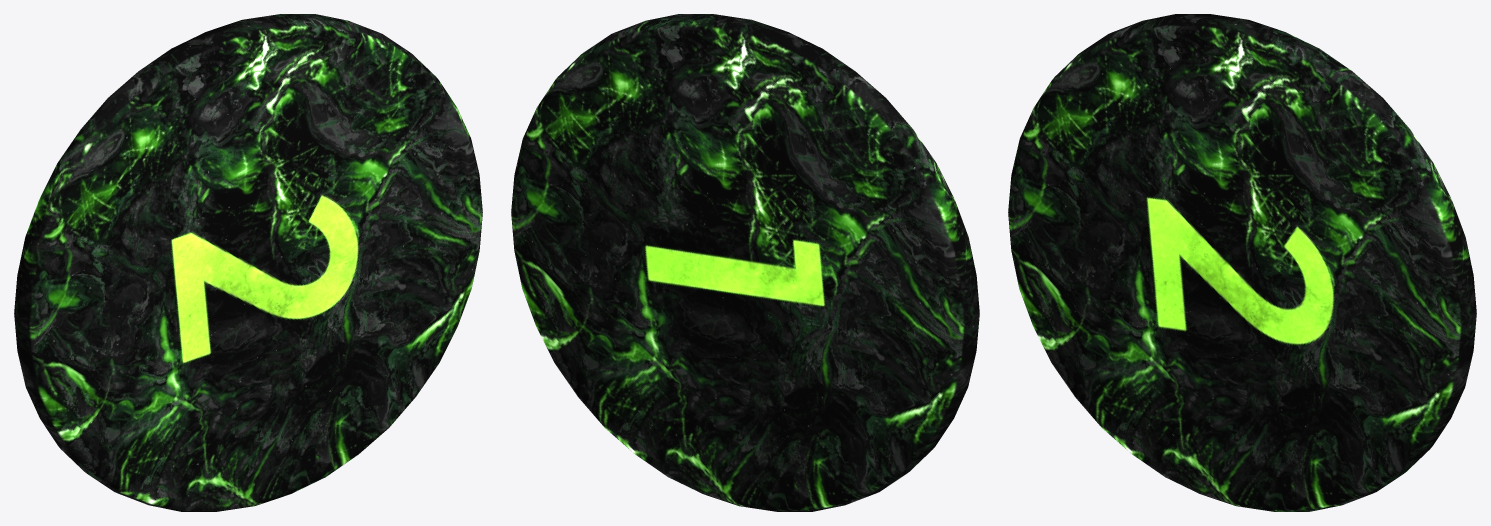
3 views of the same model, side by side, from view 1: azimuth 30°, elevation 25°; view 2: azimuth 150°, elevation 25°; view 3: azimuth 330°, elevation 25° (orthographic).
Visible parts, largest first — view 1: dice_2; view 2: dice_2; view 3: dice_2.
Boxes of the visible parts, x1,y1,x2,y2 form: dice_2: (14, 14, 482, 511); dice_2: (511, 14, 979, 511); dice_2: (1008, 14, 1476, 511).
Bounding box in the file's own units: 180 × 180 × 12.56.
1 material, 1 textured.
